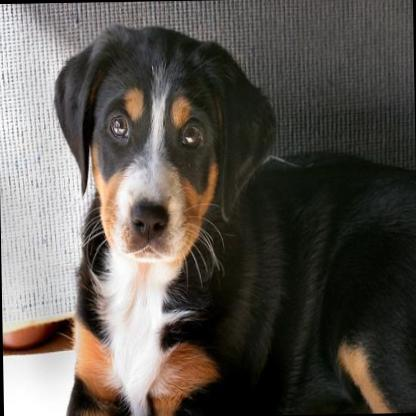Appenzeller: (50, 17, 416, 416)
